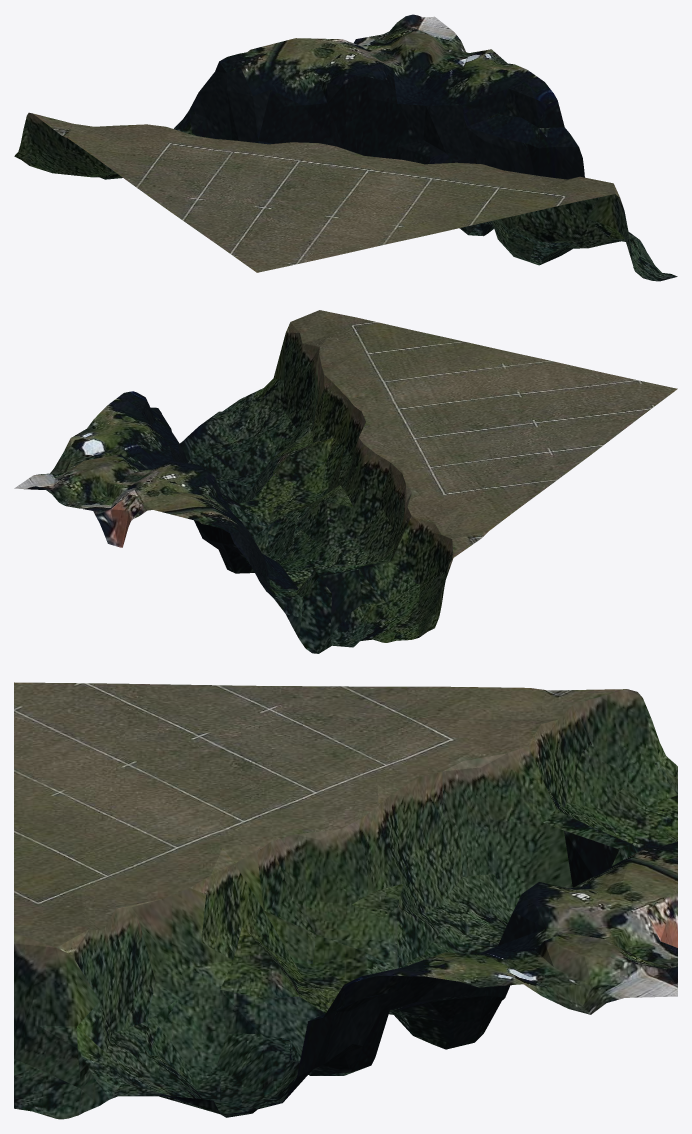
The model's file is map_15_8187_13788.dae.
The picture shows the model from 3 angles, top to bottom: view 1: azimuth 30°, elevation 25°; view 2: azimuth 150°, elevation 25°; view 3: azimuth 270°, elevation 25°; orthographic projection. The views are drawn at different scales.
Visible parts, largest first — view 1: Ter0; view 2: Ter0; view 3: Ter0.
Part boxes in pixels (x1,y1,x2,y2): Ter0: (14,14,677,281); Ter0: (14,310,677,653); Ter0: (14,682,677,1119).
Size of the model in its own units: 63.87 by 63.88 by 19.04.
Materials: 3 (3 with a texture image).
